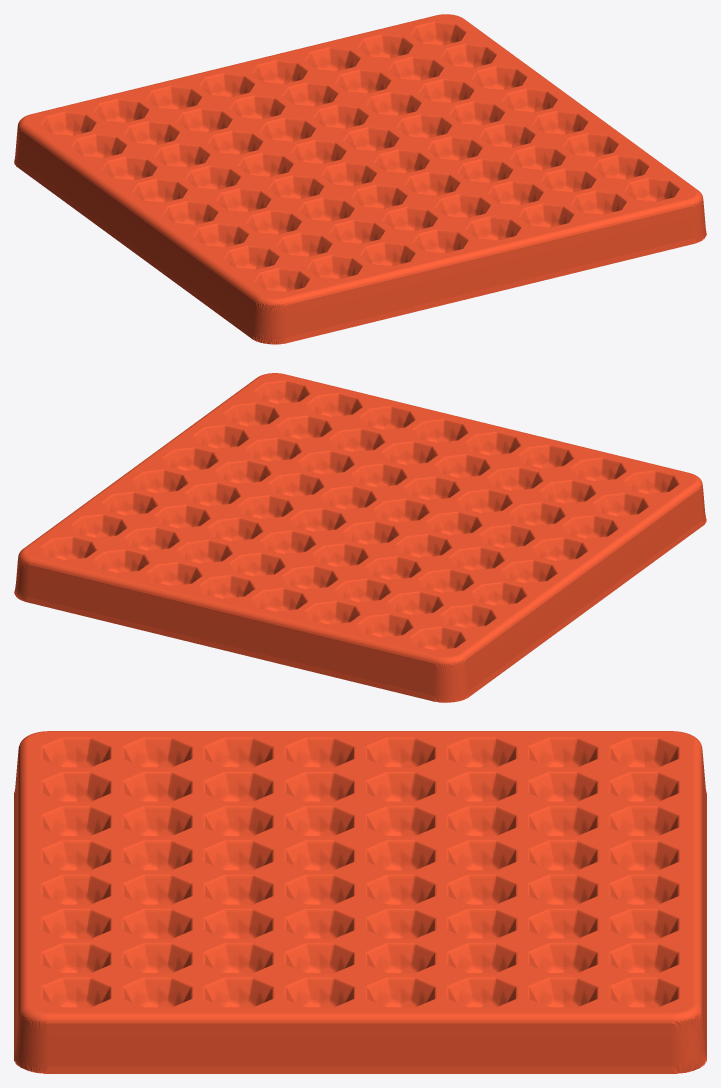
The model's file is mold.glb.
3 views of the same model, one above another, from view 1: azimuth 30°, elevation 25°; view 2: azimuth 150°, elevation 25°; view 3: azimuth 270°, elevation 25° (orthographic). The views are drawn at different scales.
Parts seen in each view (by area): view 1: geometry_0; view 2: geometry_0; view 3: geometry_0.
Boxes of the visible parts, x1=… form: geometry_0: x1=14, y1=14, x2=706, y2=344; geometry_0: x1=14, y1=373, x2=706, y2=702; geometry_0: x1=14, y1=731, x2=706, y2=1073.
Size of the model in its own units: 0.1788 by 0.0157 by 0.1788.
